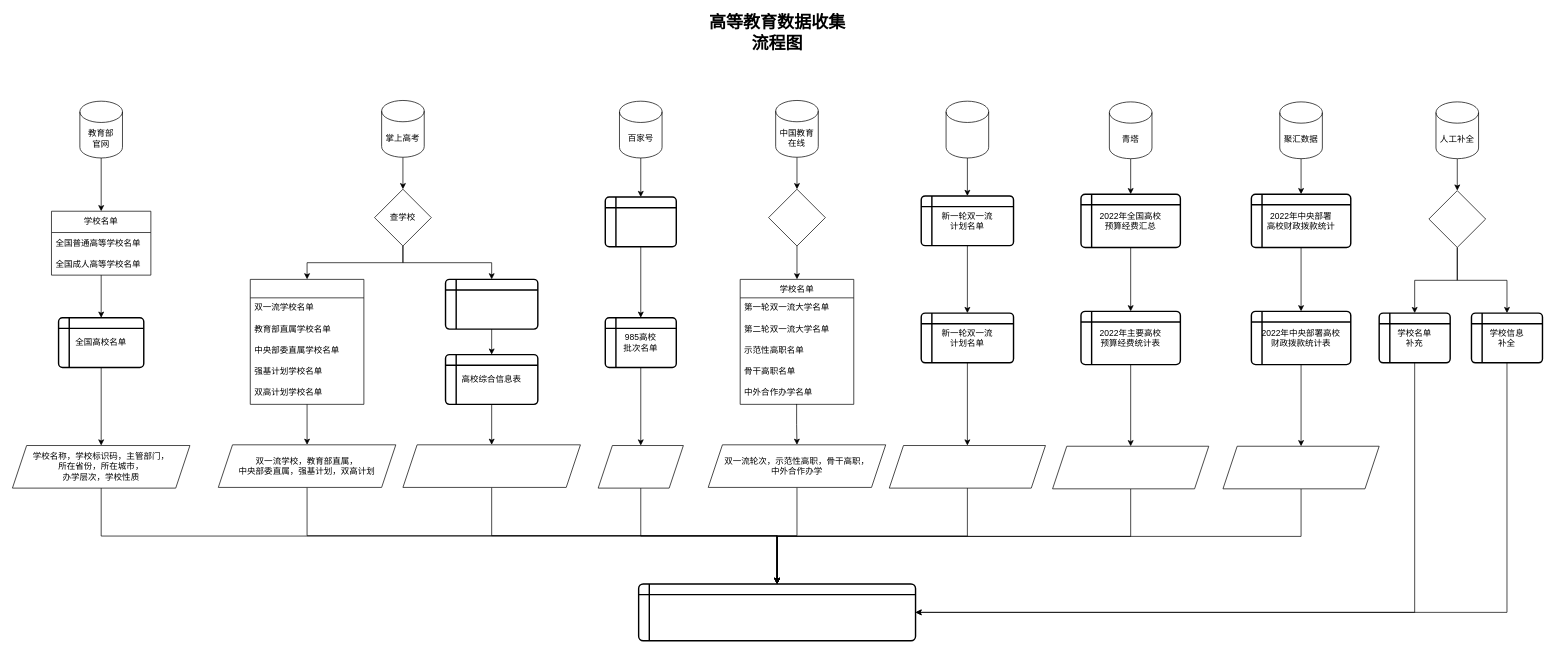
Some shapes in this 1556 by 653 pixel diagram are drawn without their labels. The shapes that lost their labels are listed below. From the top down, each one's box as (x1, y1, x2, y2) in pixels, then its label:
(945, 100, 989, 158): 腾讯新闻
(604, 196, 677, 247): 985 批次信息
(768, 189, 825, 246): 大学信息 查询
(1428, 190, 1486, 247): 人工查询
(444, 278, 538, 329): 学校综合信息
(250, 279, 364, 404): 分类名单
(402, 444, 580, 487): 学校类型，创建时间，学校地址， 学校官网，学校简称，曾用名， 占地面积，211工程，985工程
(597, 445, 683, 488): 985批次
(889, 445, 1045, 488): 双一流学科分类衍生字段
(1052, 446, 1209, 489): 预算总收入（亿元，2022年） 本年度收入（亿元，2022年）
(1222, 446, 1379, 489): 财政拨款数（亿元，2022年） 财政拨款占比（2022年）
(638, 583, 916, 641): 高等教育数据宽表
